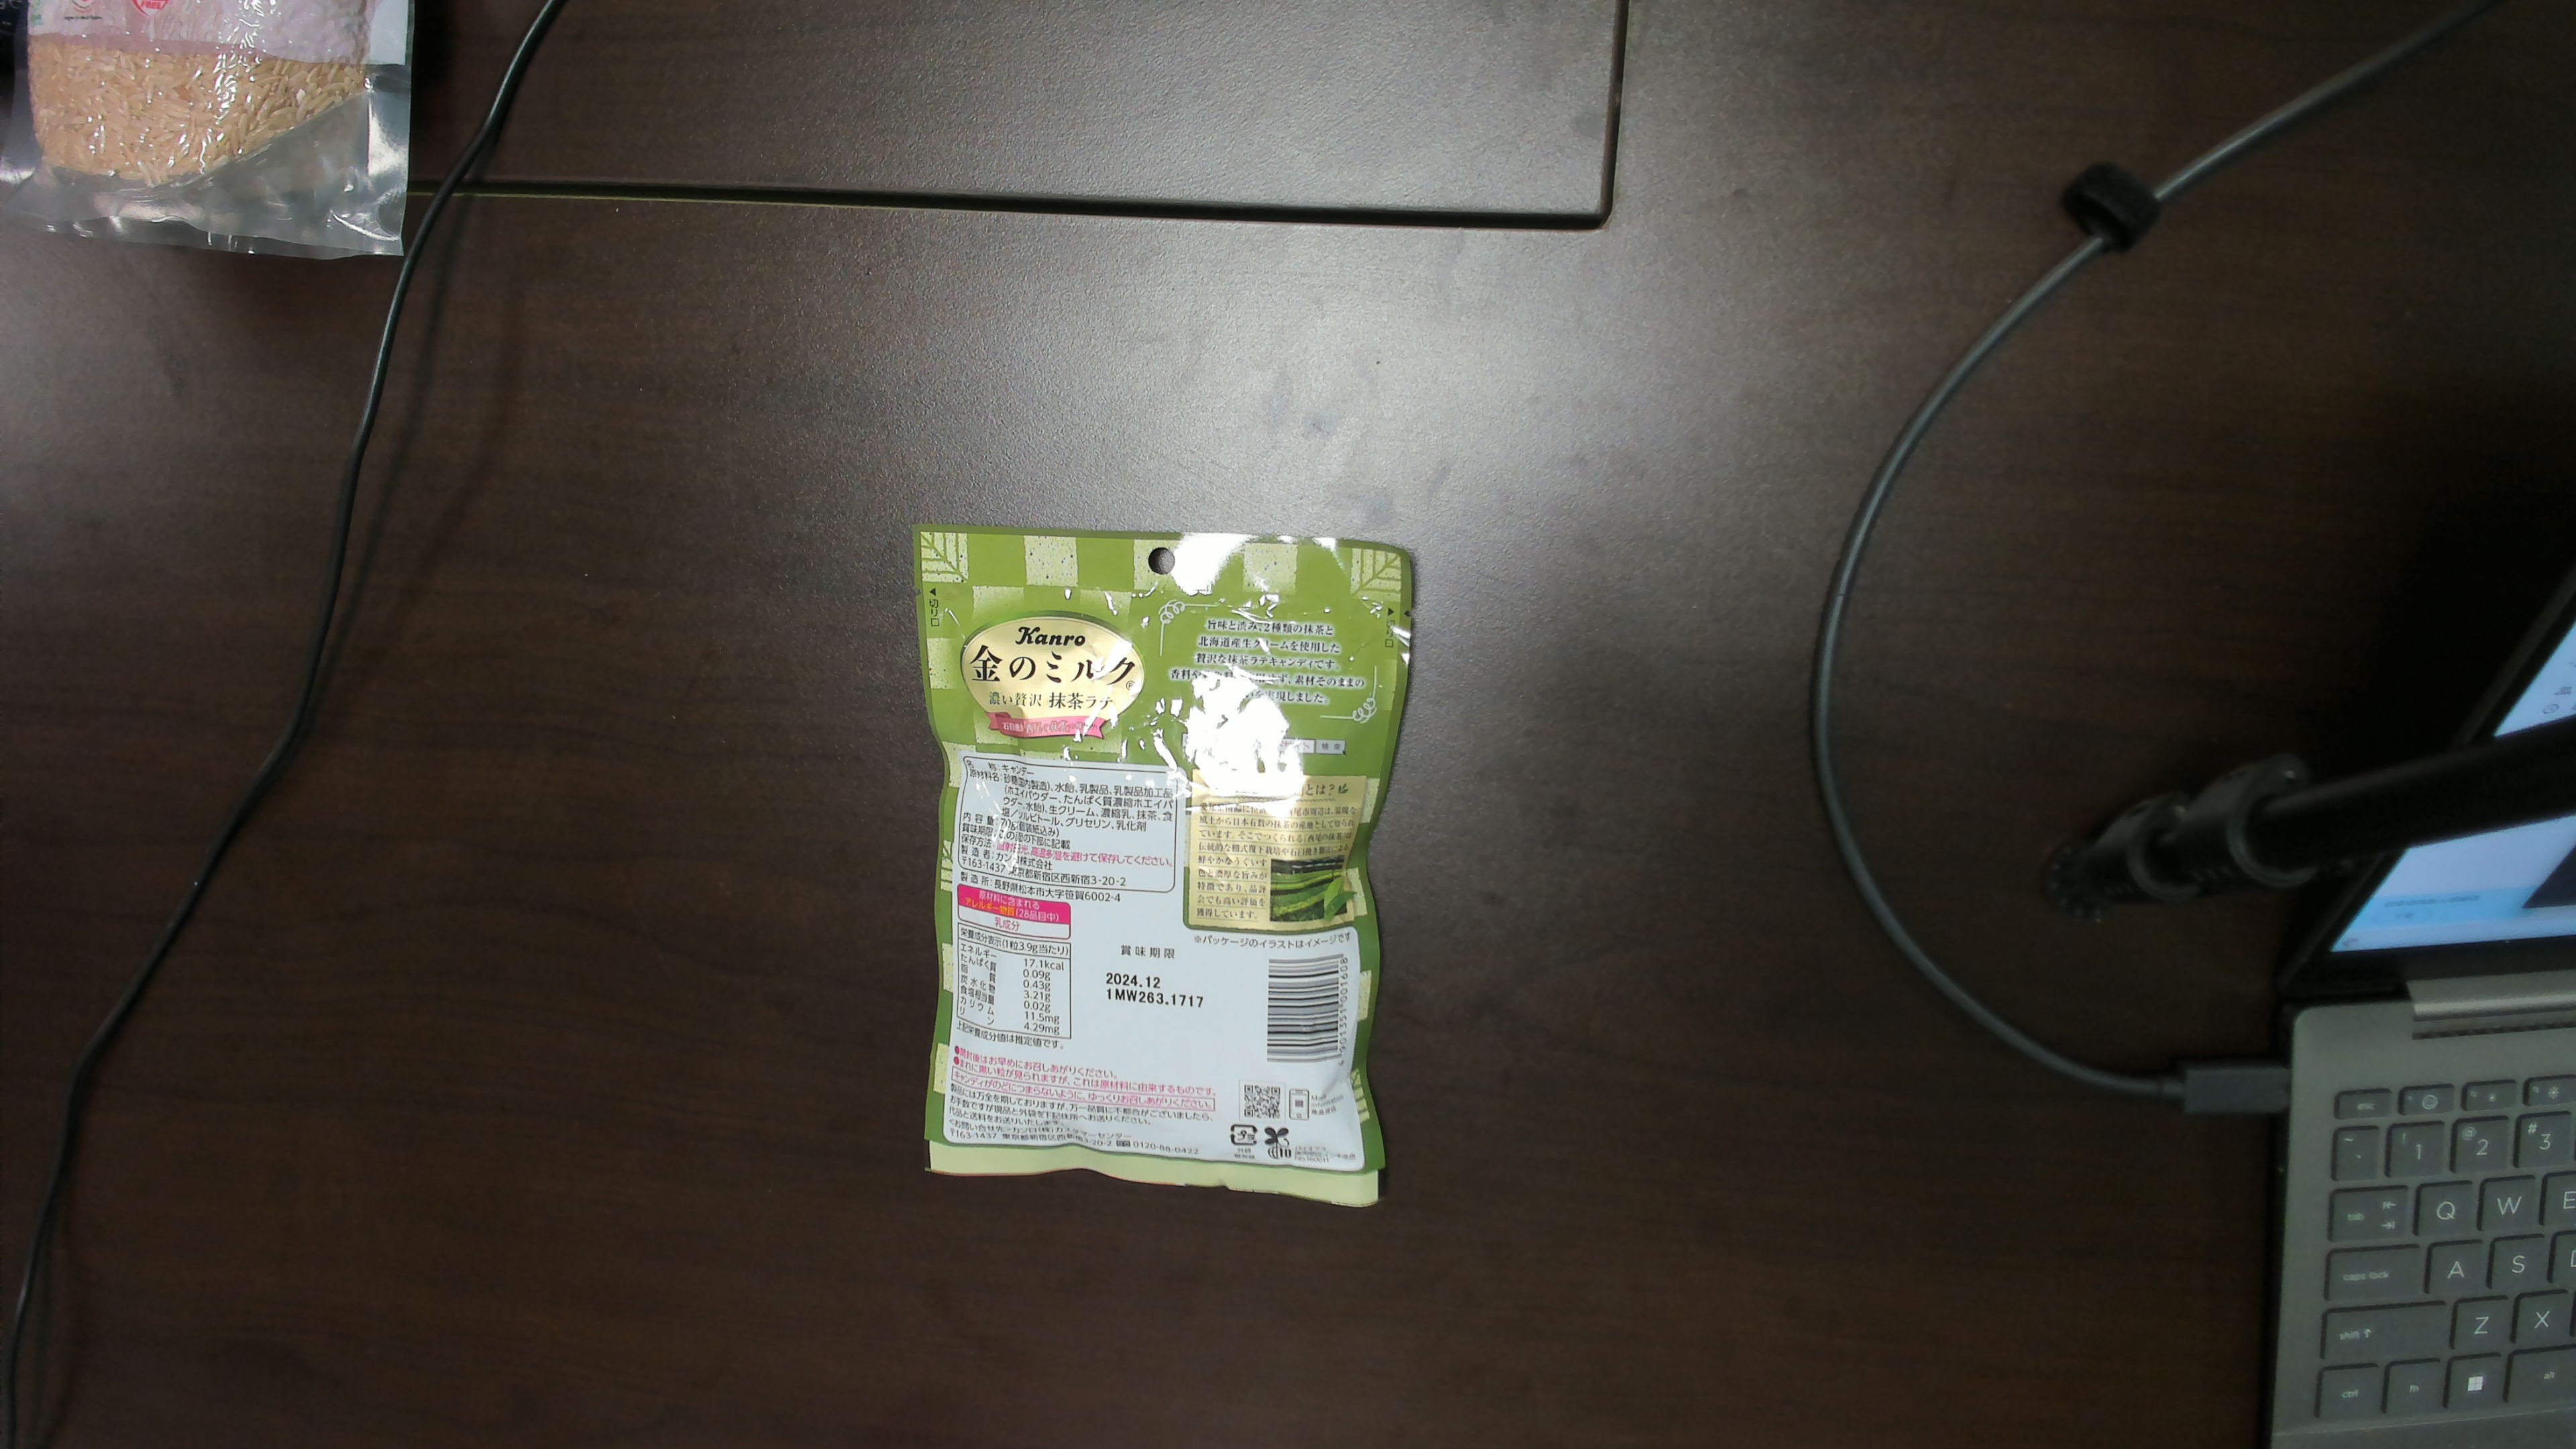SweetsChocolatesOthers_100-199g_NonHalal_NonHealthy: (929, 536, 1369, 1196)
